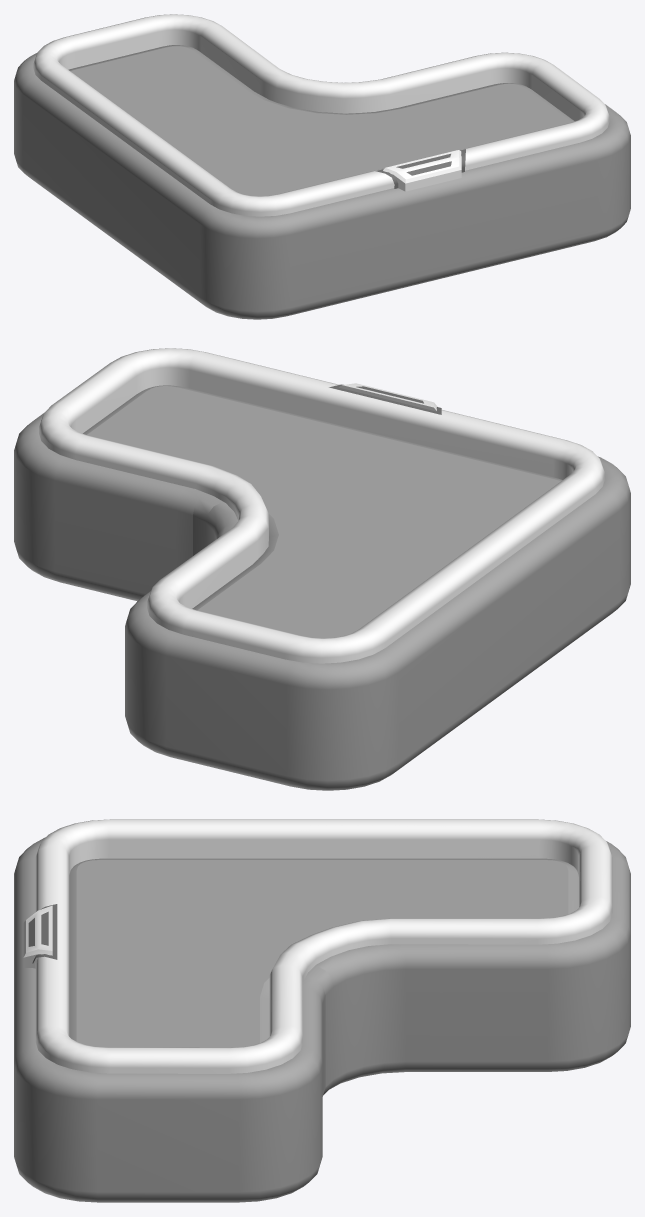
Rendered from Model_Block_L_Short_New.fbx.
The picture shows the model from 3 angles, top to bottom: view 1: azimuth 30°, elevation 25°; view 2: azimuth 150°, elevation 25°; view 3: azimuth 270°, elevation 25°; orthographic projection. The views are drawn at different scales.
Parts seen in each view (by area): view 1: BLS_BG, BLS_Stroke, BLS_Water; view 2: BLS_BG, BLS_Water, BLS_Stroke; view 3: BLS_BG, BLS_Water, BLS_Stroke.
Boxes of the visible parts, x1,y1,x2,y2 form: BLS_BG: [14, 52, 630, 319]; BLS_Stroke: [33, 14, 609, 216]; BLS_Water: [68, 45, 574, 196]; BLS_BG: [14, 413, 630, 790]; BLS_Water: [83, 385, 562, 638]; BLS_Stroke: [39, 348, 604, 663]; BLS_BG: [14, 837, 630, 1202]; BLS_Water: [69, 858, 578, 1047]; BLS_Stroke: [23, 819, 612, 1073].
Size of the model in its own units: 197 by 51.35 by 197.
Materials: 2 (1 with a texture image).
